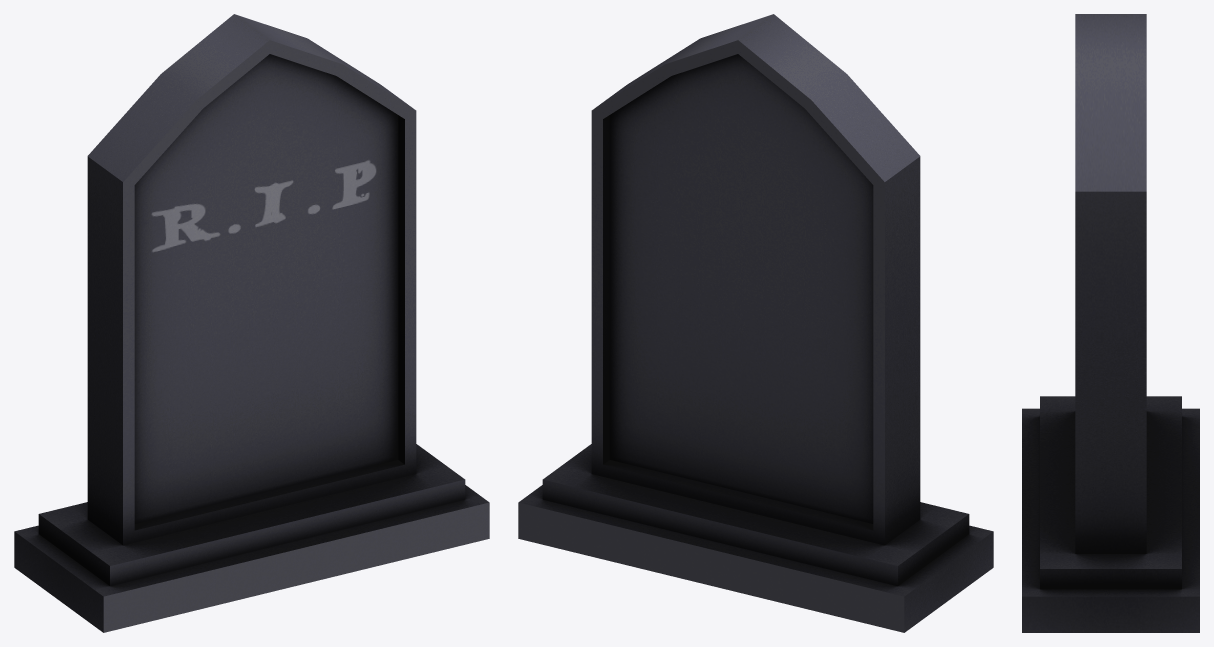
File: Tomb 3.FBX
The picture shows the model from 3 angles, left to right: view 1: azimuth 30°, elevation 25°; view 2: azimuth 150°, elevation 25°; view 3: azimuth 270°, elevation 25°; orthographic projection.
Visible parts, largest first — view 1: Box002; view 2: Box002; view 3: Box002.
Boxes of the visible parts, bbox=[...] form: Box002: bbox=[14, 14, 489, 632]; Box002: bbox=[518, 14, 993, 632]; Box002: bbox=[1022, 14, 1199, 632].
Bounding box in the file's own units: 50 × 65.14 × 20.
Materials: 1 (1 with a texture image).
